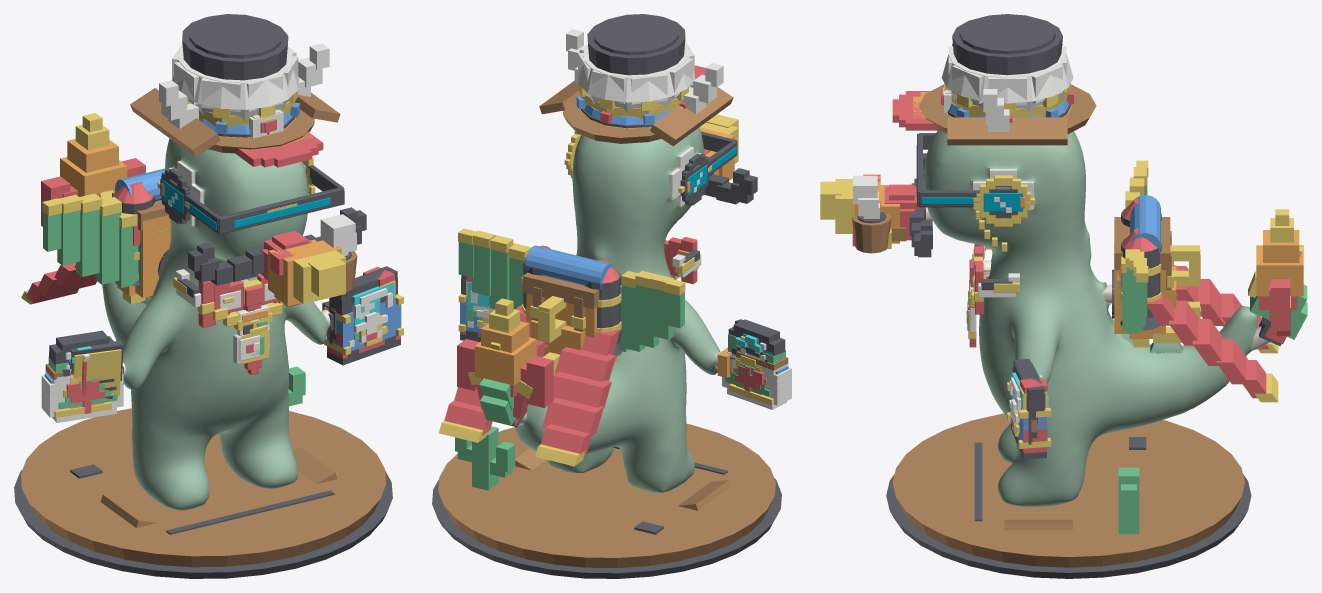
The model's file is dino_kit.glb.
3 views of the same model, side by side, from view 1: azimuth 30°, elevation 25°; view 2: azimuth 150°, elevation 25°; view 3: azimuth 270°, elevation 25° (orthographic). The views are drawn at different scales.
Visible parts, largest first — view 1: dino_body, base_desert, back_wings, hat_tophat, hat_chef, hat_cowboy, snout_fire, tail_flame, back_backpack, eyes_vr, snout_stache, hat_cap (+25 smaller); view 2: base_desert, dino_body, back_cape, back_wings, back_backpack, hat_tophat, hat_cowboy, hat_chef, tail_flame, tail_bow, back_jetpack, hat_horns (+18 smaller); view 3: dino_body, base_desert, back_cape, hat_tophat, hat_cowboy, hat_chef, tail_flame, back_backpack, back_wings, snout_pipe, snout_fire, back_jetpack (+16 smaller).
Part boxes in pixels (x1,y1,x2,y2): dino_body: (102, 138, 328, 510); base_desert: (14, 366, 392, 578); back_wings: (42, 193, 163, 289); hat_tophat: (182, 14, 295, 137); hat_chef: (172, 43, 298, 120); hat_cowboy: (130, 88, 340, 157); snout_fire: (268, 239, 346, 306); tail_flame: (60, 113, 127, 196); back_backpack: (112, 168, 170, 297); eyes_vr: (161, 161, 344, 234); snout_stache: (188, 207, 366, 285); hat_cap: (199, 110, 323, 167); base_desert: (432, 424, 781, 578); dino_body: (515, 127, 720, 492); back_cape: (439, 305, 619, 466); back_wings: (458, 228, 685, 351); back_backpack: (522, 245, 620, 356); hat_tophat: (581, 14, 685, 128); hat_cowboy: (539, 79, 733, 146); hat_chef: (577, 41, 695, 112); tail_flame: (474, 298, 536, 427); tail_bow: (457, 339, 553, 426); back_jetpack: (521, 245, 622, 370); hat_horns: (566, 29, 723, 113); dino_body: (923, 130, 1257, 507); base_desert: (886, 413, 1251, 578); back_cape: (1111, 243, 1278, 402); hat_tophat: (947, 14, 1071, 117); hat_cowboy: (919, 84, 1096, 145); hat_chef: (941, 43, 1073, 112); tail_flame: (1252, 209, 1303, 348); back_backpack: (1102, 195, 1176, 333); back_wings: (1112, 160, 1148, 333); snout_pipe: (852, 175, 928, 253); snout_fire: (820, 174, 928, 246); back_jetpack: (1120, 198, 1161, 347).
Size of the model in its own units: 1.82 by 2.52 by 2.27.
